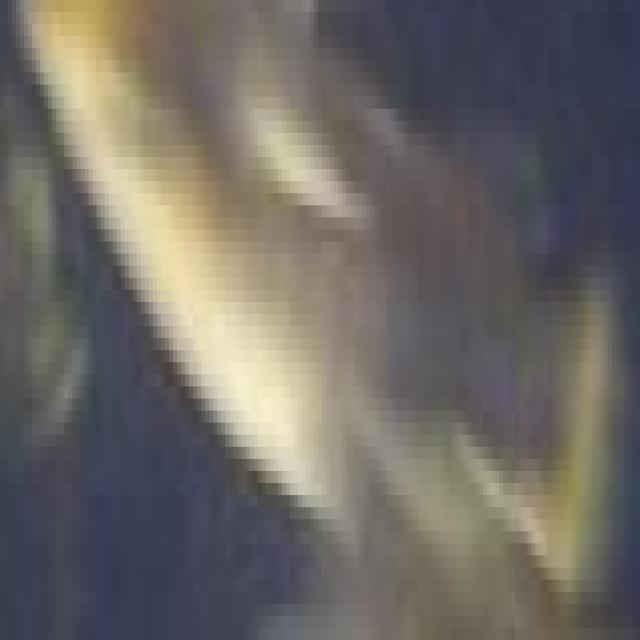fish: (4, 0, 640, 628)
